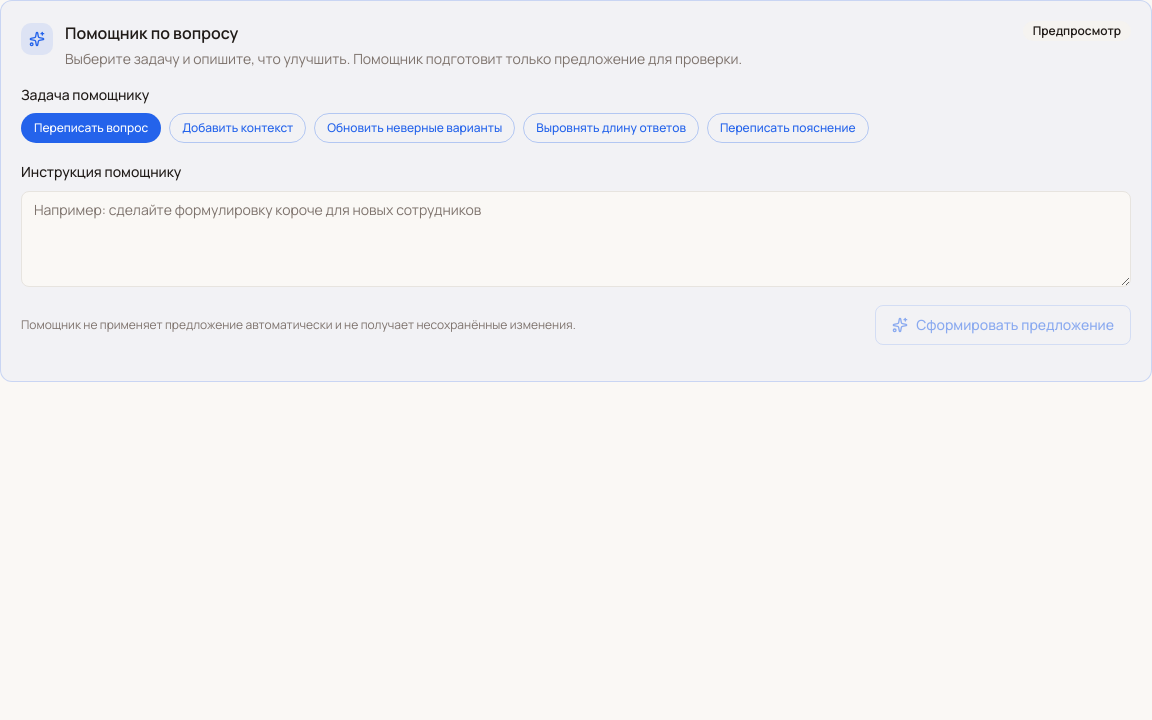
Test case: QuestionAssistantPreview › shows actionable applicability copy for requires_new_draft_revision
Type "Улучши вопрос" into the text box labelled "Инструкция помощнику".
click(576, 239); type("Улучши вопрос")  # box [21,191,1131,287]
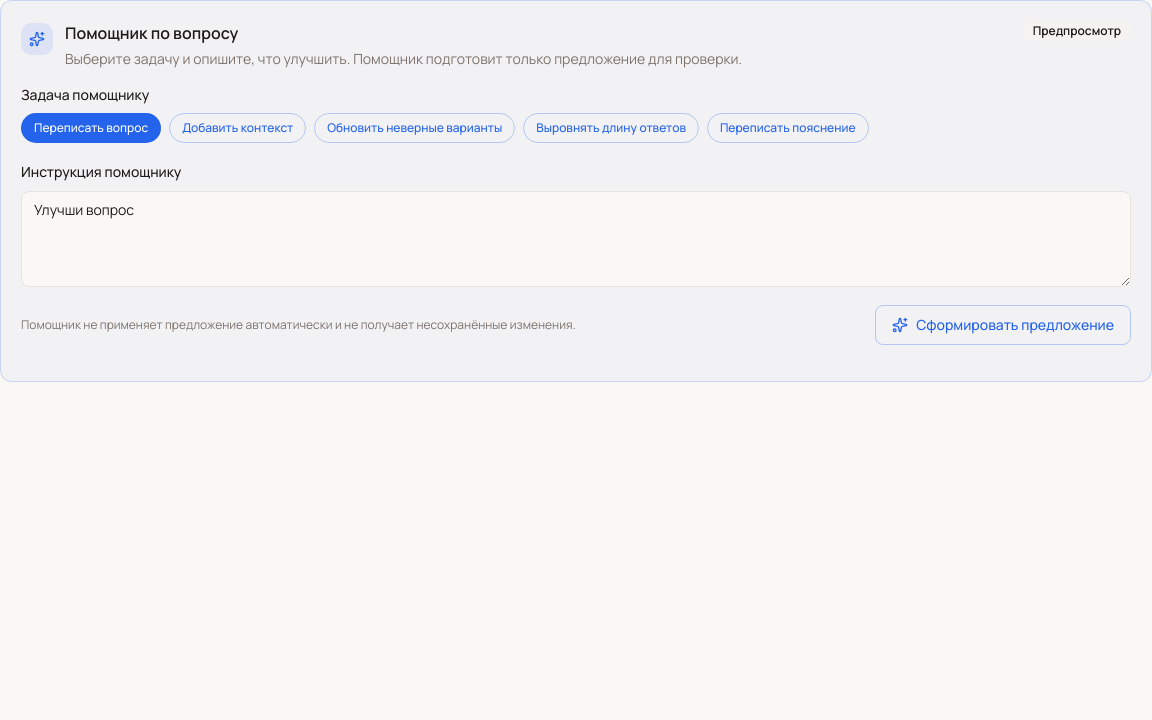
Click the button with aria-label "Сформировать предложение помощника".
click(1003, 325)  # box [875,305,1131,345]
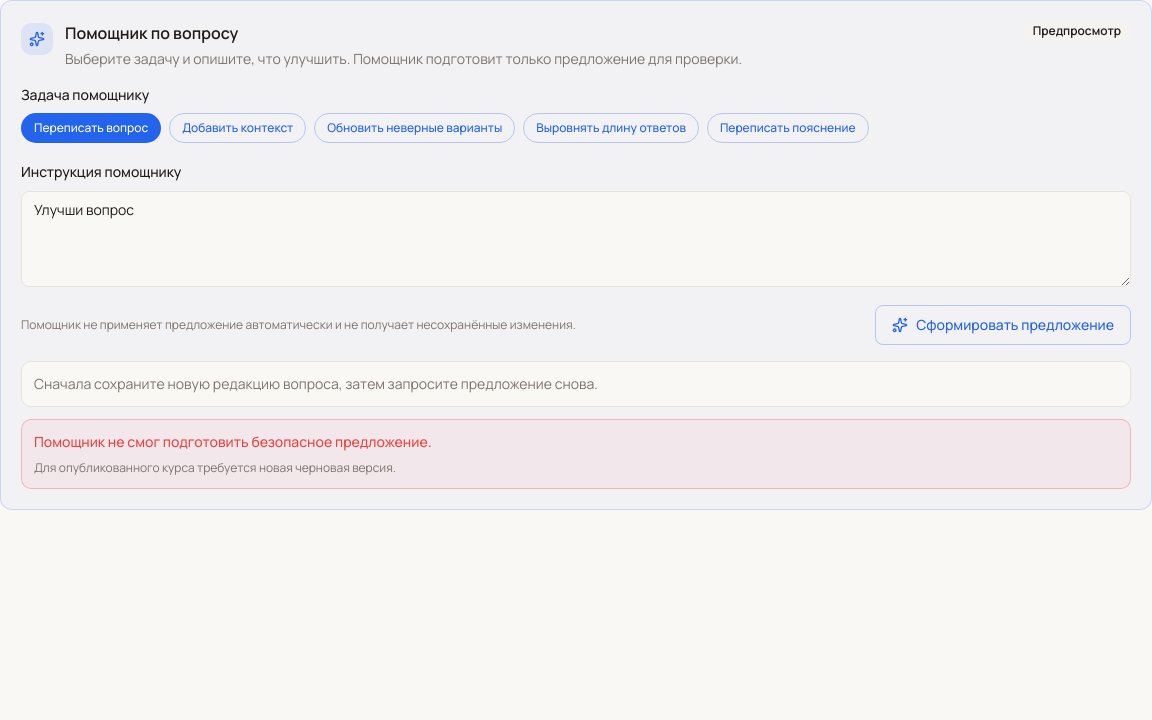
Expected: the text "Сначала сохраните новую редакцию вопроса" is shown, [34,374,598,393]
